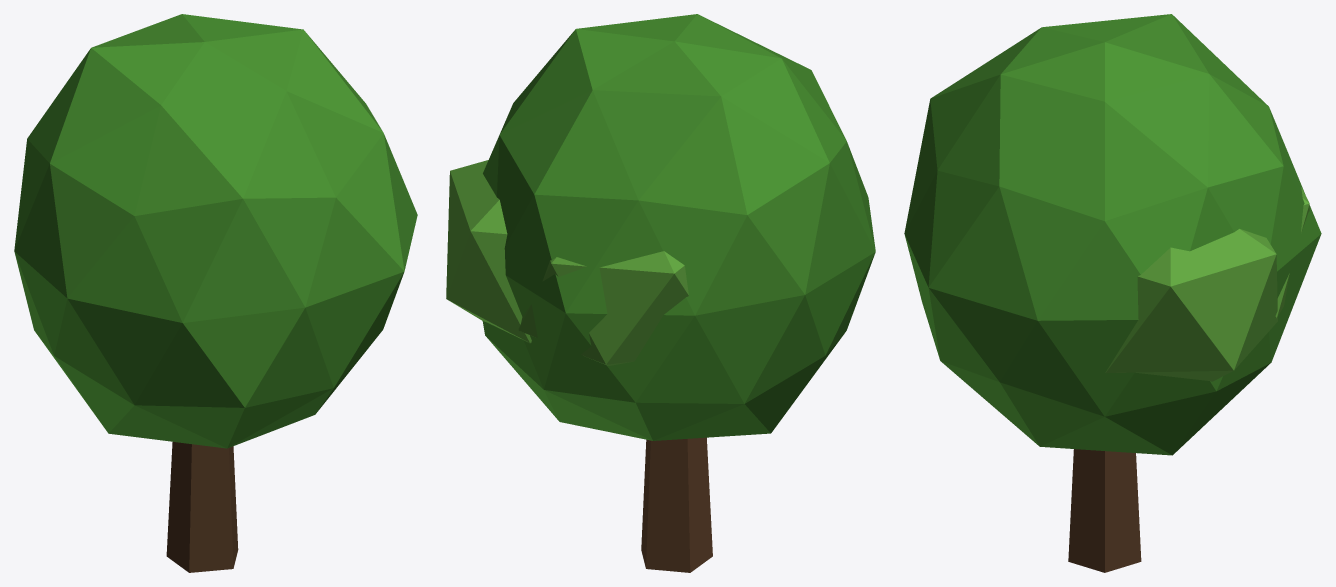
The model's file is TreeRound_B.fbx.
3 renders of one model, left to right at view 1: azimuth 30°, elevation 25°; view 2: azimuth 150°, elevation 25°; view 3: azimuth 270°, elevation 25°, orthographic.
Parts seen in each view (by area): view 1: TreeRound_B; view 2: TreeRound_B; view 3: TreeRound_B.
Part boxes in pixels (bbox=[...]): TreeRound_B: bbox=[14, 14, 417, 572]; TreeRound_B: bbox=[446, 14, 875, 572]; TreeRound_B: bbox=[904, 14, 1321, 572].
Bounding box in the file's own units: 3028 × 4141 × 3043.
